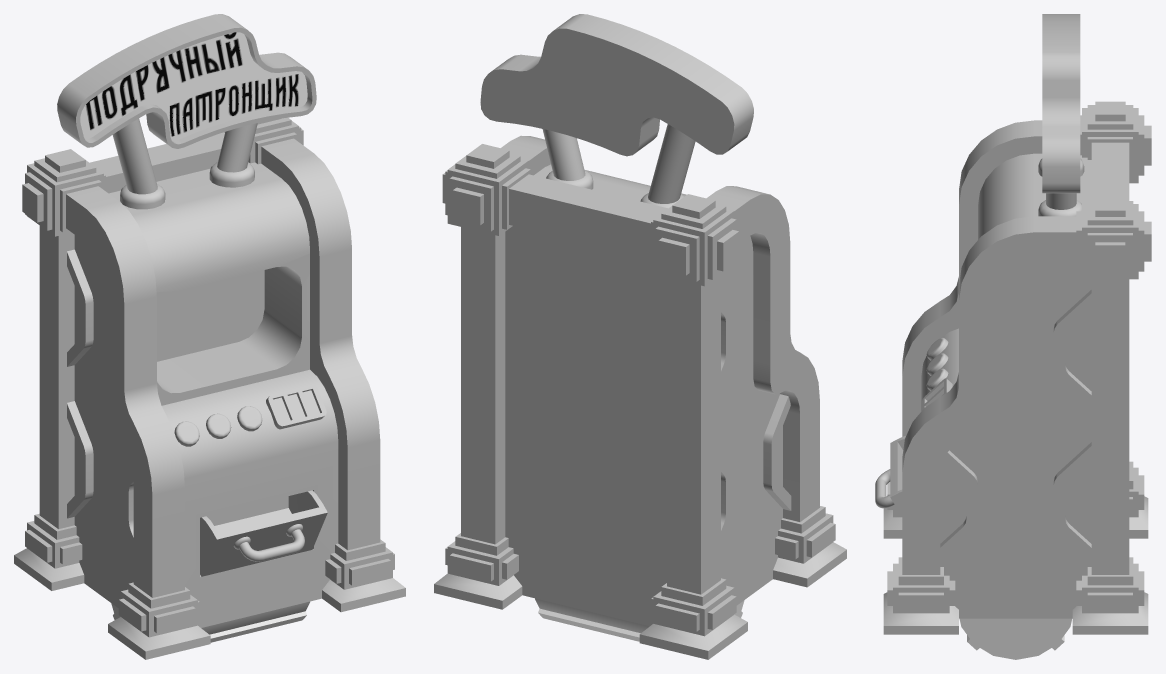
File: VendingMachineAmmo.fbx
3 views of the same model, side by side, from view 1: azimuth 30°, elevation 25°; view 2: azimuth 150°, elevation 25°; view 3: azimuth 270°, elevation 25° (orthographic). The views are drawn at different scales.
Visible parts, largest first — view 1: VendingMachine Ammo, Cylinder; view 2: VendingMachine Ammo, Cylinder; view 3: VendingMachine Ammo, Cylinder.
Boxes of the visible parts, x1,y1,x2,y2 form: VendingMachine Ammo: (14, 14, 405, 659); Cylinder: (111, 601, 309, 642); VendingMachine Ammo: (434, 14, 846, 659); Cylinder: (535, 598, 744, 641); VendingMachine Ammo: (875, 14, 1151, 634); Cylinder: (959, 618, 1071, 659).
Size of what is drawn, in the model's own units: 139 by 293 by 124.
